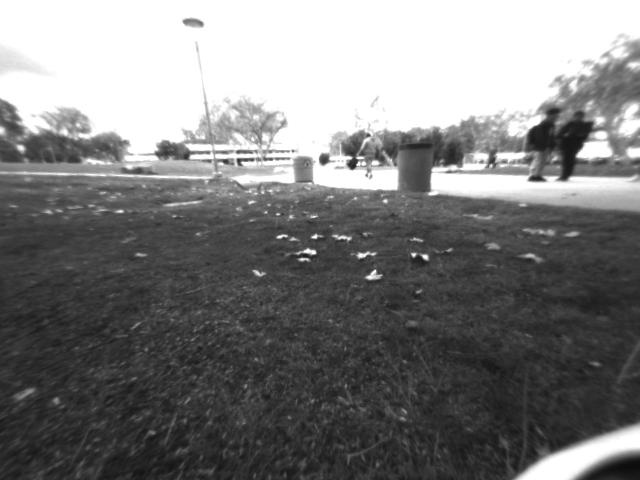trashcan: (396, 140, 438, 196), (287, 155, 317, 186)
